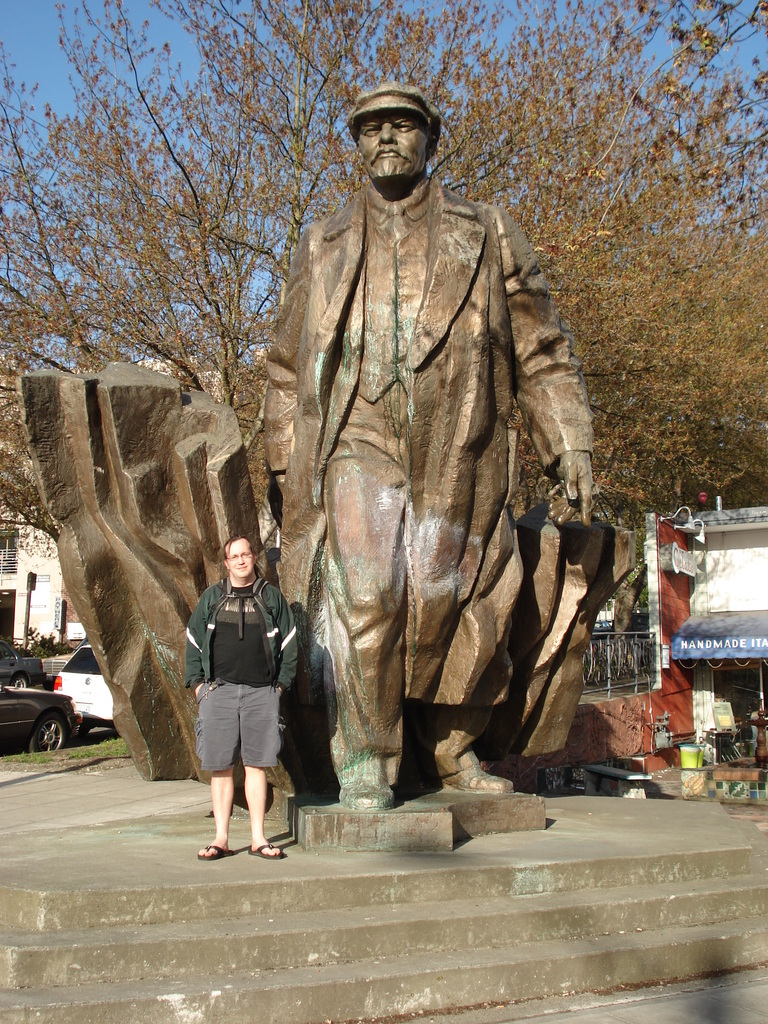Car: (48, 641, 120, 734), (0, 688, 74, 752), (0, 640, 43, 688)
